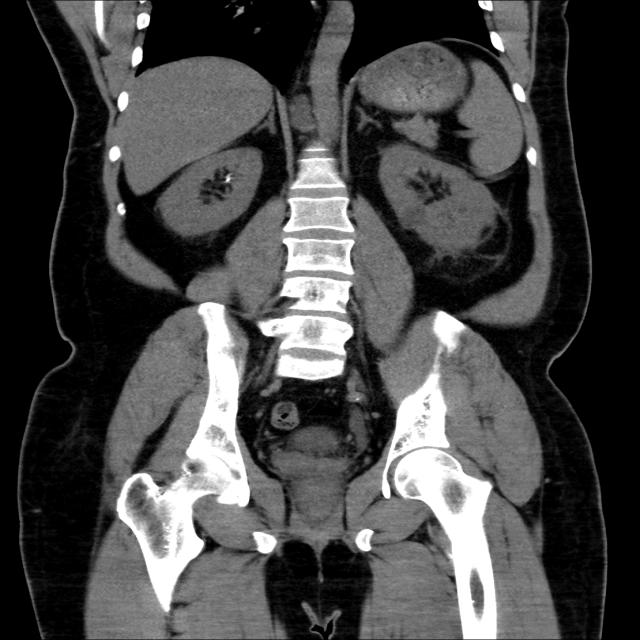kidneystone: (224, 174, 231, 180)
